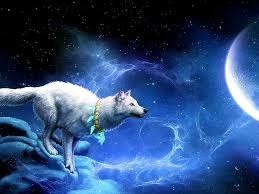Lobo: (5, 75, 153, 174)
